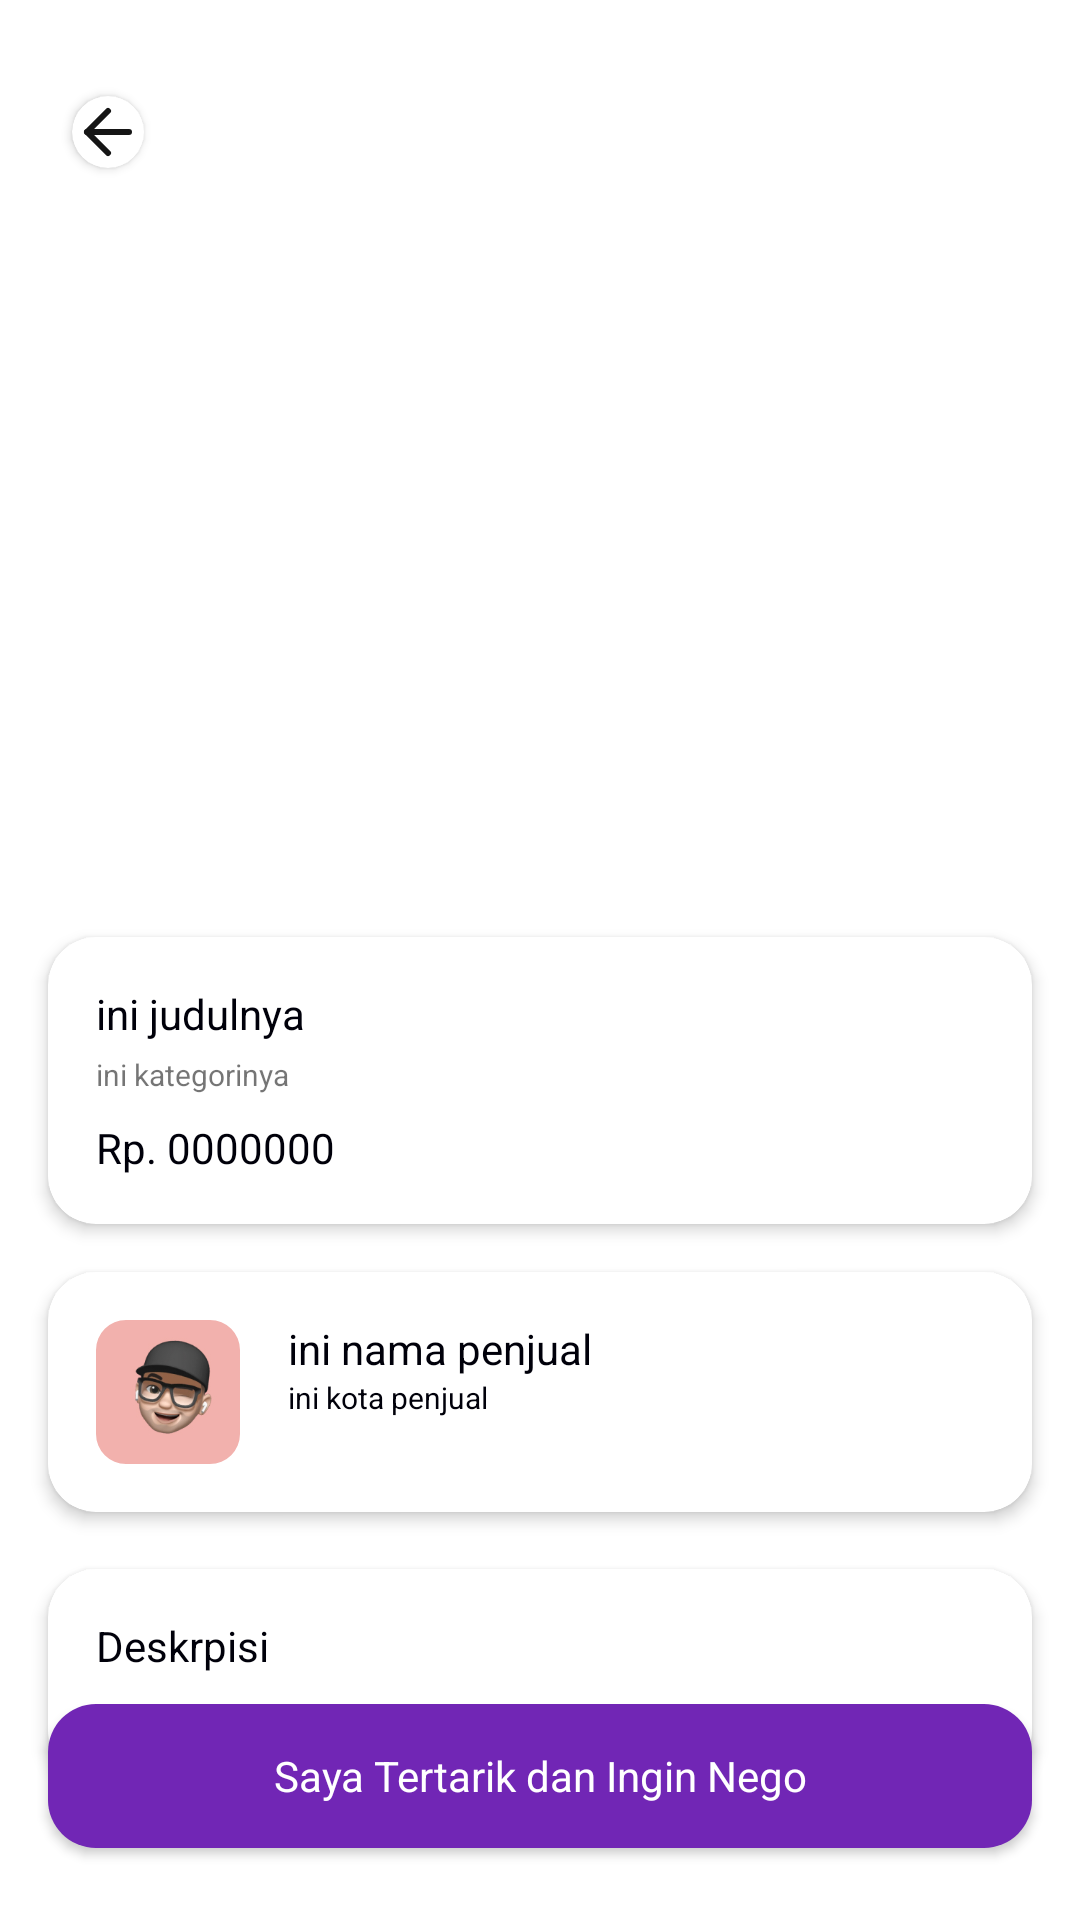

Locate icon controls on the screen. Image size 1080w x 1920h, boxes as (x1, y1, x2, y2).
arrow left: (72, 102, 132, 168)
